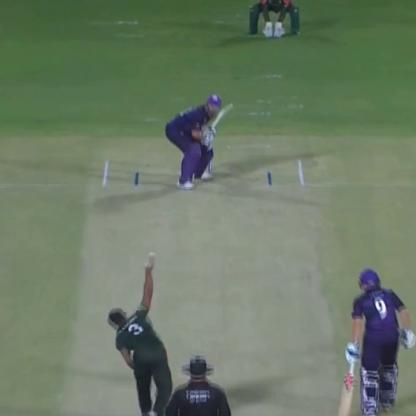ball: (146, 248, 158, 264)
bat: (198, 101, 236, 136)
pitch: (70, 160, 338, 416)
